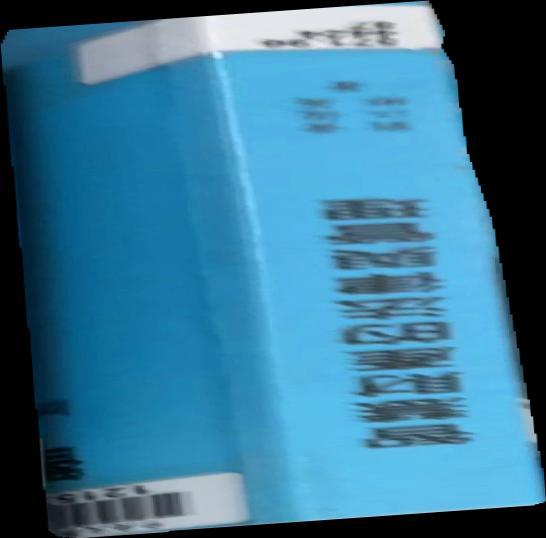reverse: (1, 1, 546, 538)
